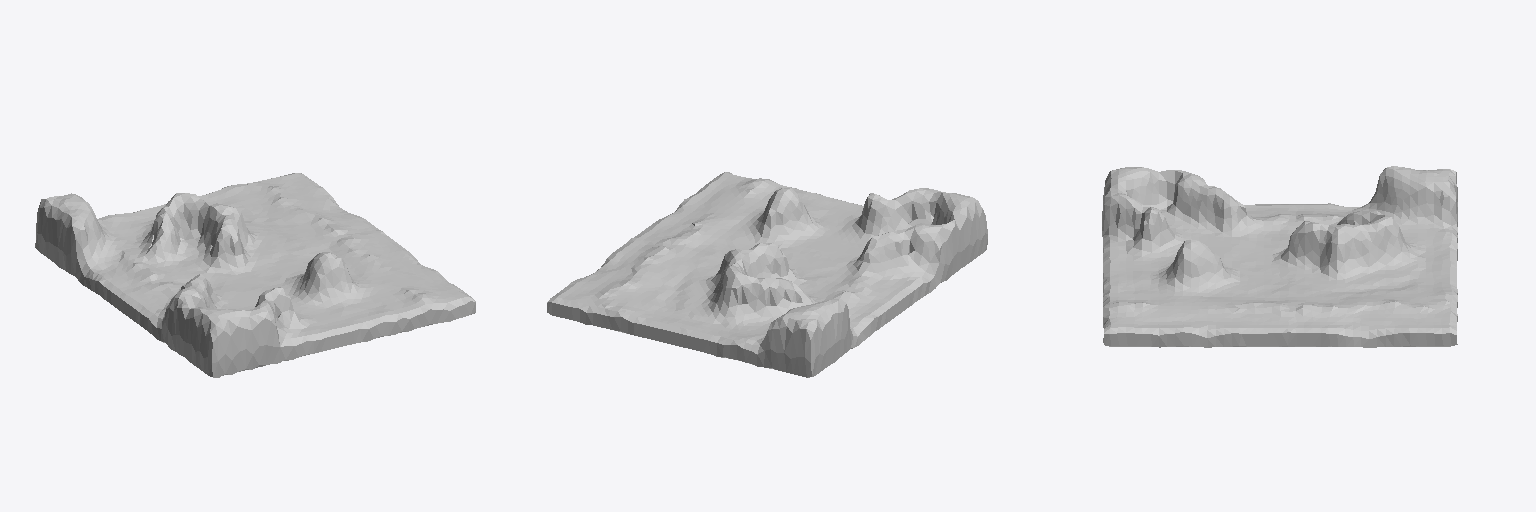
The model's file is mapa2.obj.
The picture shows the model from 3 angles: view 1: azimuth 30°, elevation 25°; view 2: azimuth 150°, elevation 25°; view 3: azimuth 270°, elevation 25°; orthographic projection.
Visible parts, largest first — view 1: Cube; view 2: Cube; view 3: Cube.
Boxes of the visible parts, box(x1,y1,x2,y2) form: Cube: box(35, 173, 475, 377); Cube: box(547, 172, 987, 377); Cube: box(1102, 166, 1457, 347).
Size of the model in its own units: 15.71 by 3.26 by 18.23.